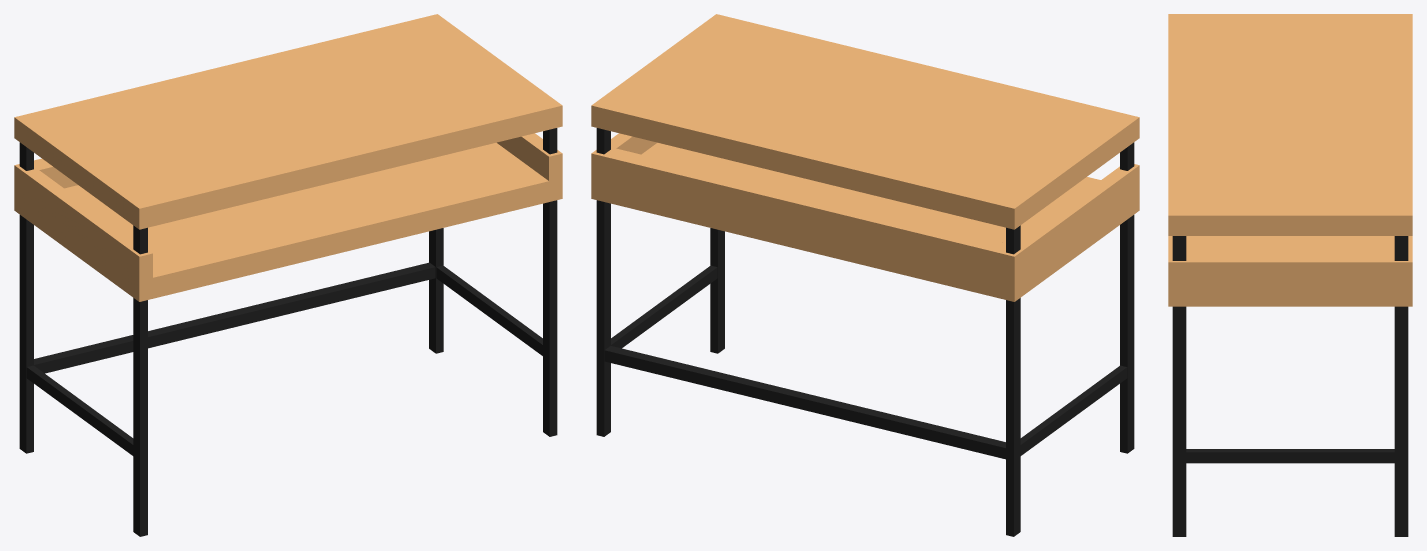
The model's file is desk.glb.
3 views of the same model, side by side, from view 1: azimuth 30°, elevation 25°; view 2: azimuth 150°, elevation 25°; view 3: azimuth 270°, elevation 25° (orthographic). The views are drawn at different scales.
Visible parts, largest first — view 1: Cube.209; view 2: Cube.209; view 3: Cube.209.
Boxes of the visible parts, box(x1,y1,x2,y2) form: Cube.209: box(14, 14, 562, 536); Cube.209: box(591, 14, 1139, 536); Cube.209: box(1168, 14, 1412, 536).
Bounding box in the file's own units: 1.76 × 1.31 × 0.9012.
